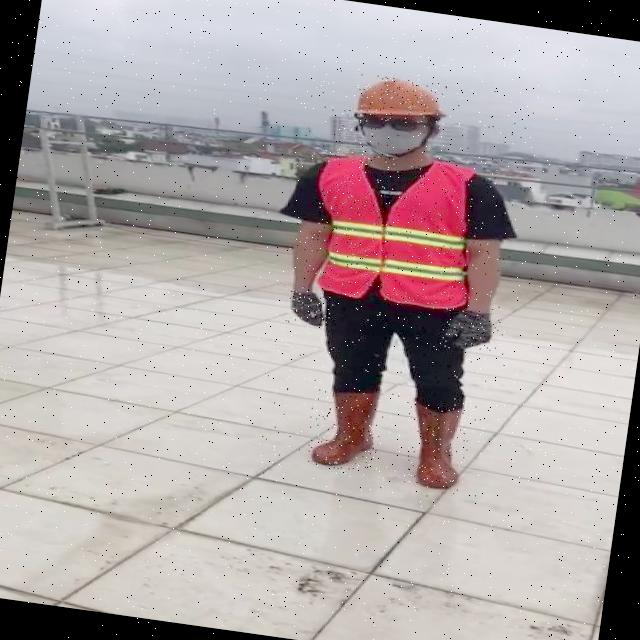boots: (304, 390, 380, 473), (404, 402, 473, 493)
helmet: (354, 73, 449, 129)
vest: (302, 146, 486, 313)
